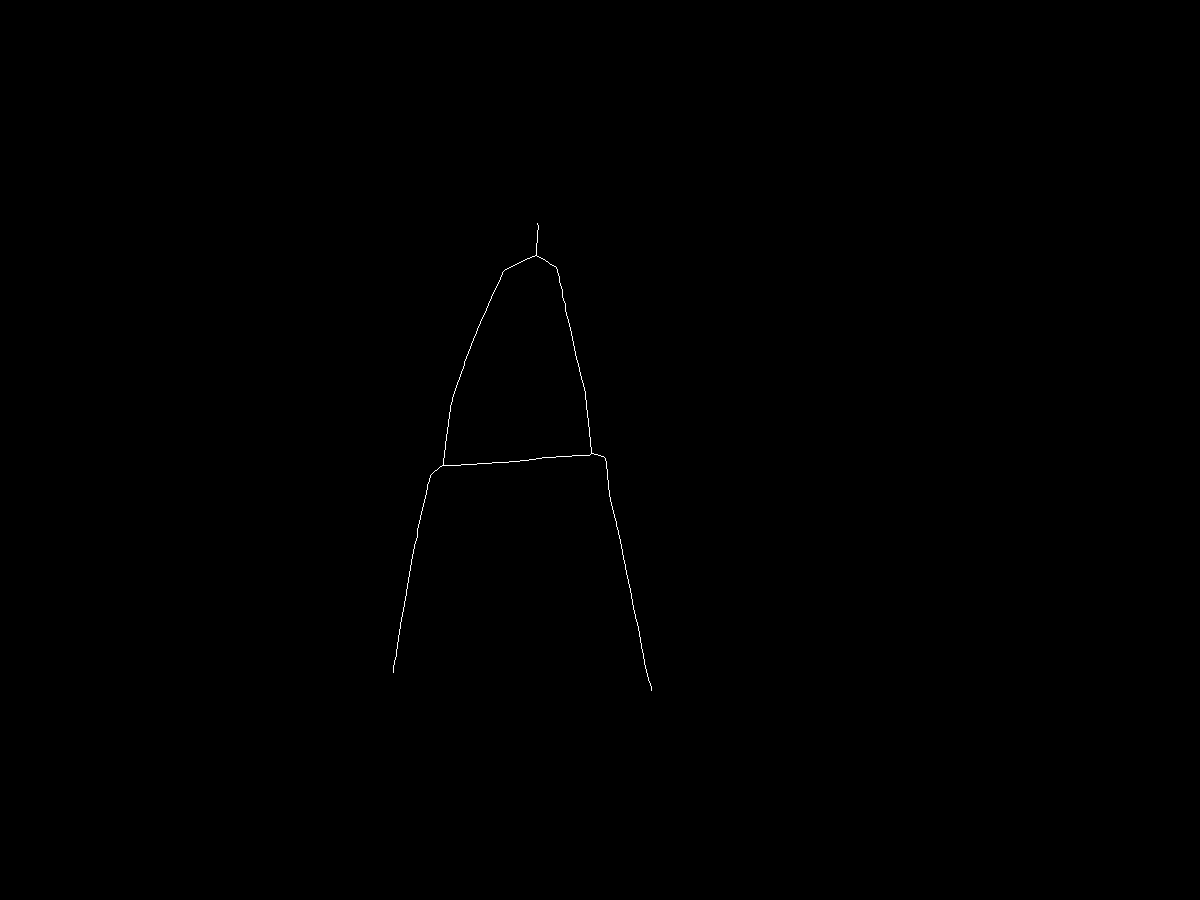dian1: (526, 251, 543, 268)
dian2: (434, 461, 450, 477)
dian3: (387, 662, 399, 674)
dian4: (599, 449, 617, 467)
dian5: (641, 683, 657, 699)
